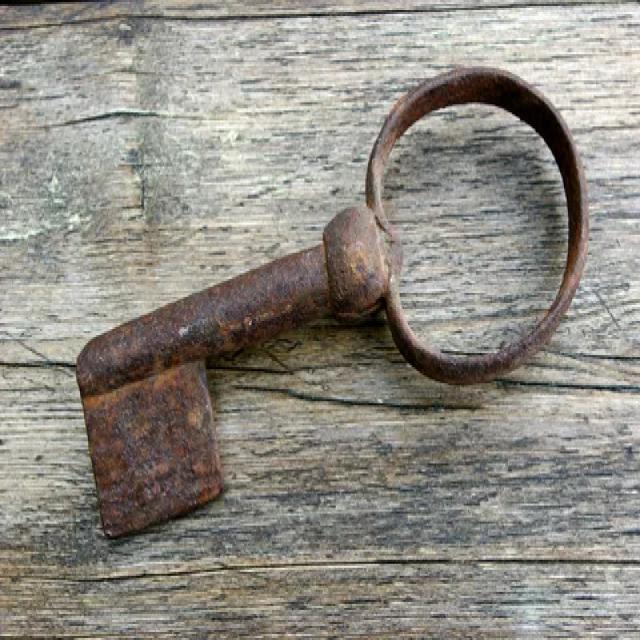key: (62, 49, 591, 545)
